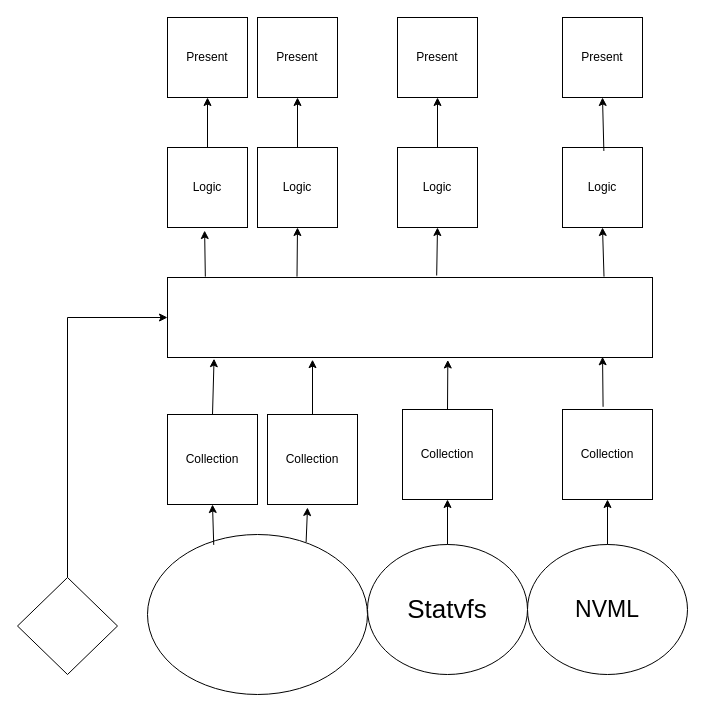
Some shapes in this 705 by 712 pixel diagram are drawn without their labels. Here are the shapes that lost their labels. From the top down, the box of each, then its label:
(166, 276, 652, 358): Data Source
(16, 576, 118, 674): PTL
(146, 534, 368, 694): /proc
